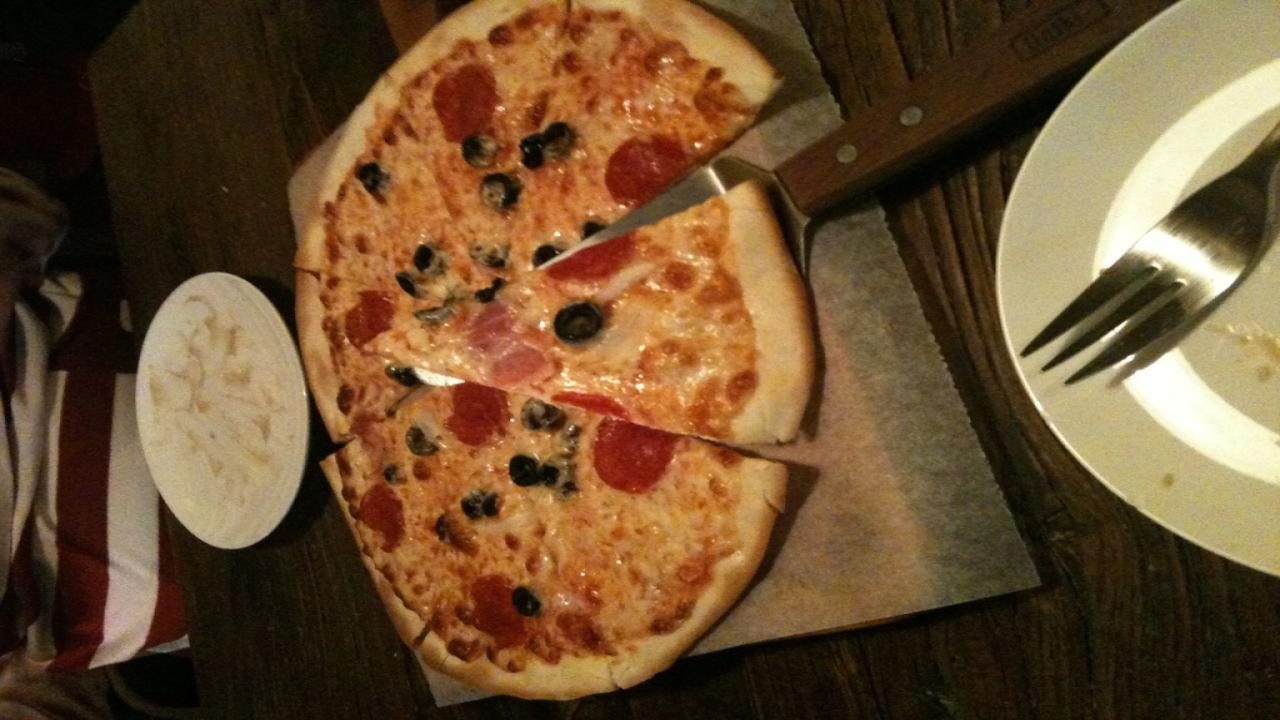fork: (1012, 139, 1280, 390)
